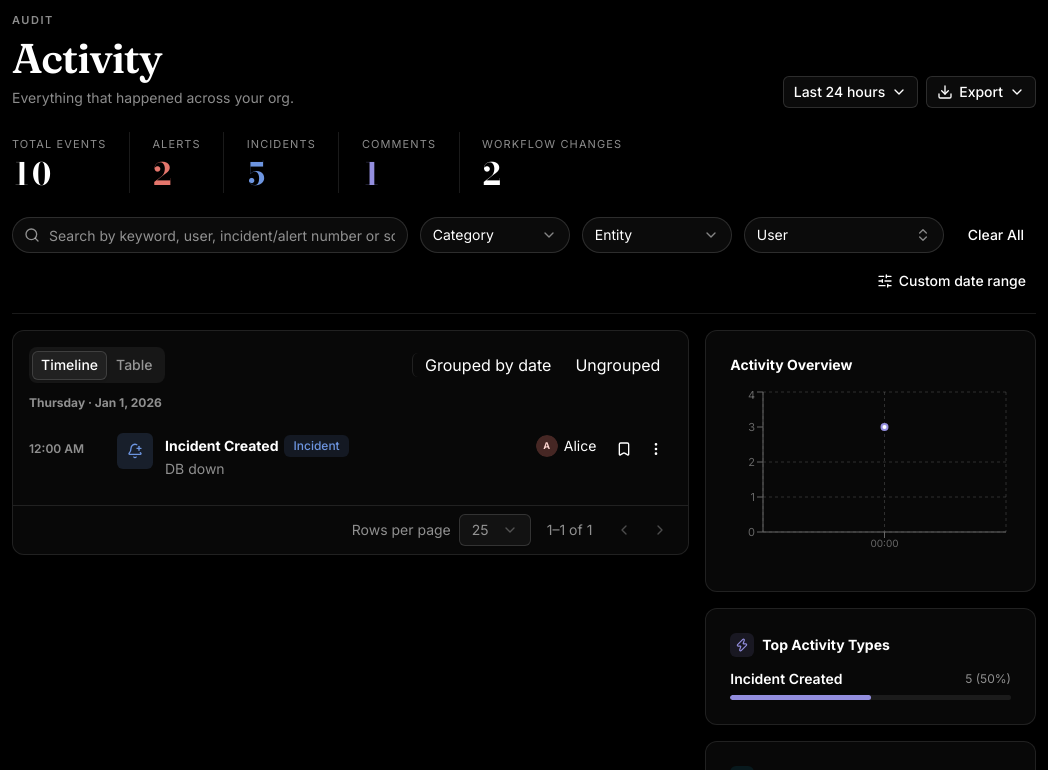
Scenario: ActivityPage — stats and timeline › switches to the table view
Click the tab "Table". click: (134, 365)
box: x1=107 y1=351 x2=162 y2=380
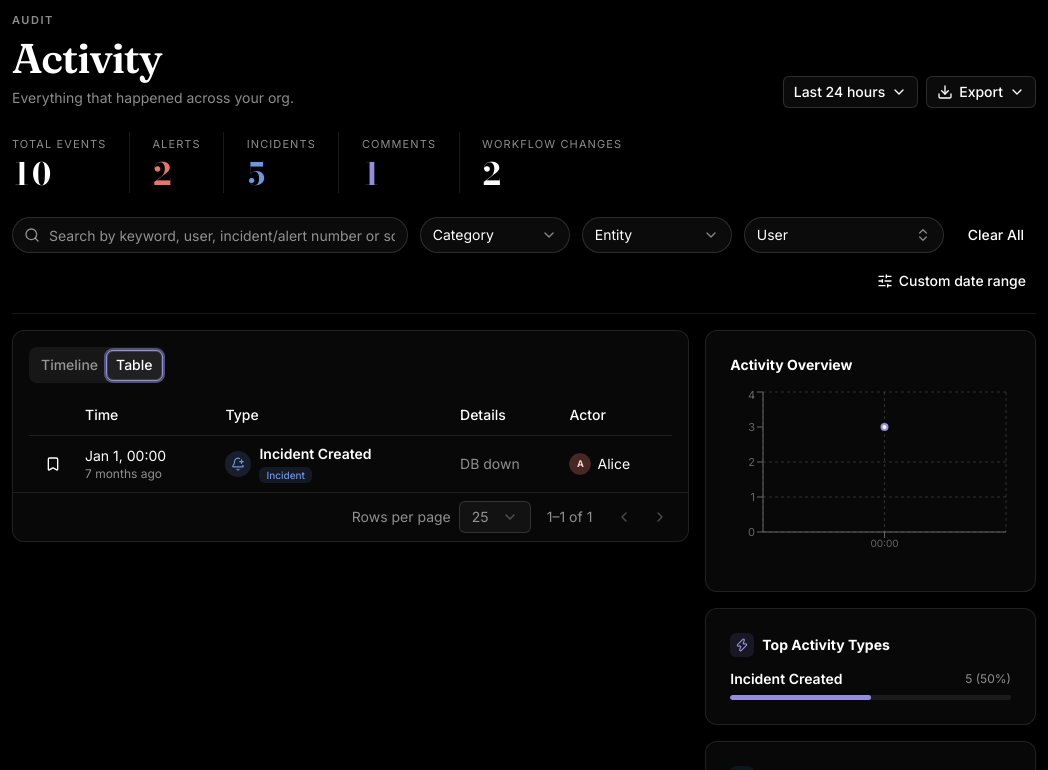
Now the table is shown, box x1=29 y1=395 x2=672 y2=492
